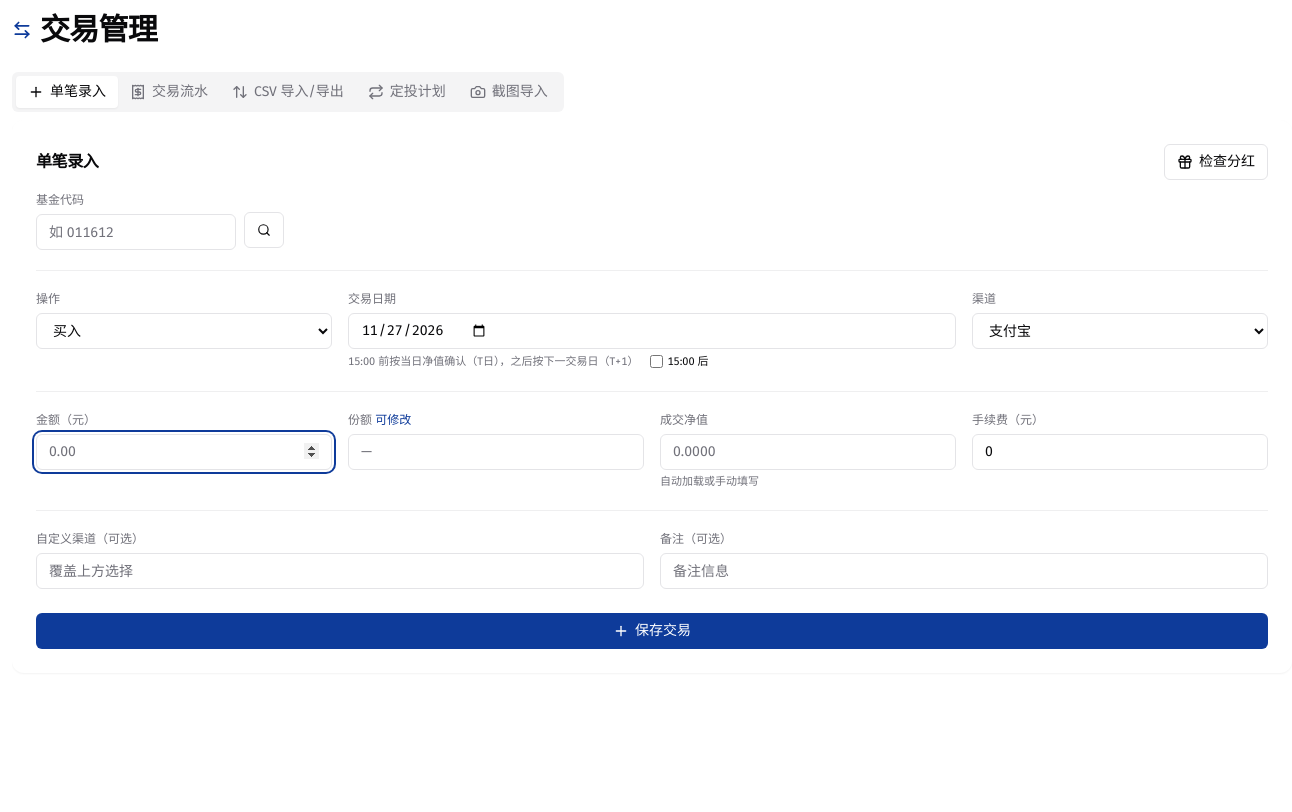
Test: 再投资金额 / 分红再投资手续费 › 再投资提交金额等于只读框显示的自动金额，残留买入金额不生效
Later steps or results of the test are not shown.
In the field with placeholder "如 011612": (136, 232) [36,214,236,250], type "000001"
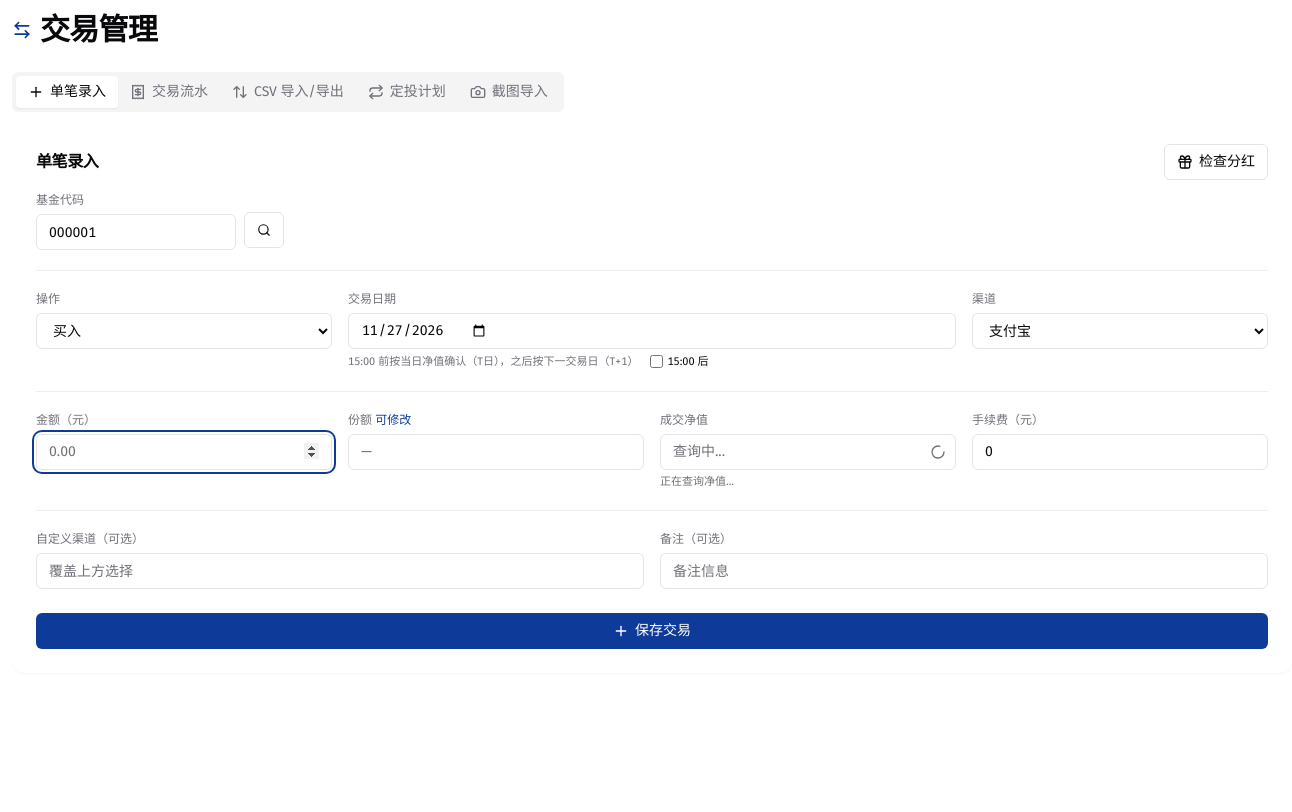
// 先在买入模式填入金额（切换 action 后残留于 amount state）
In the number field with placeholder "0.00": (184, 452) [36,434,332,470], type "1000"
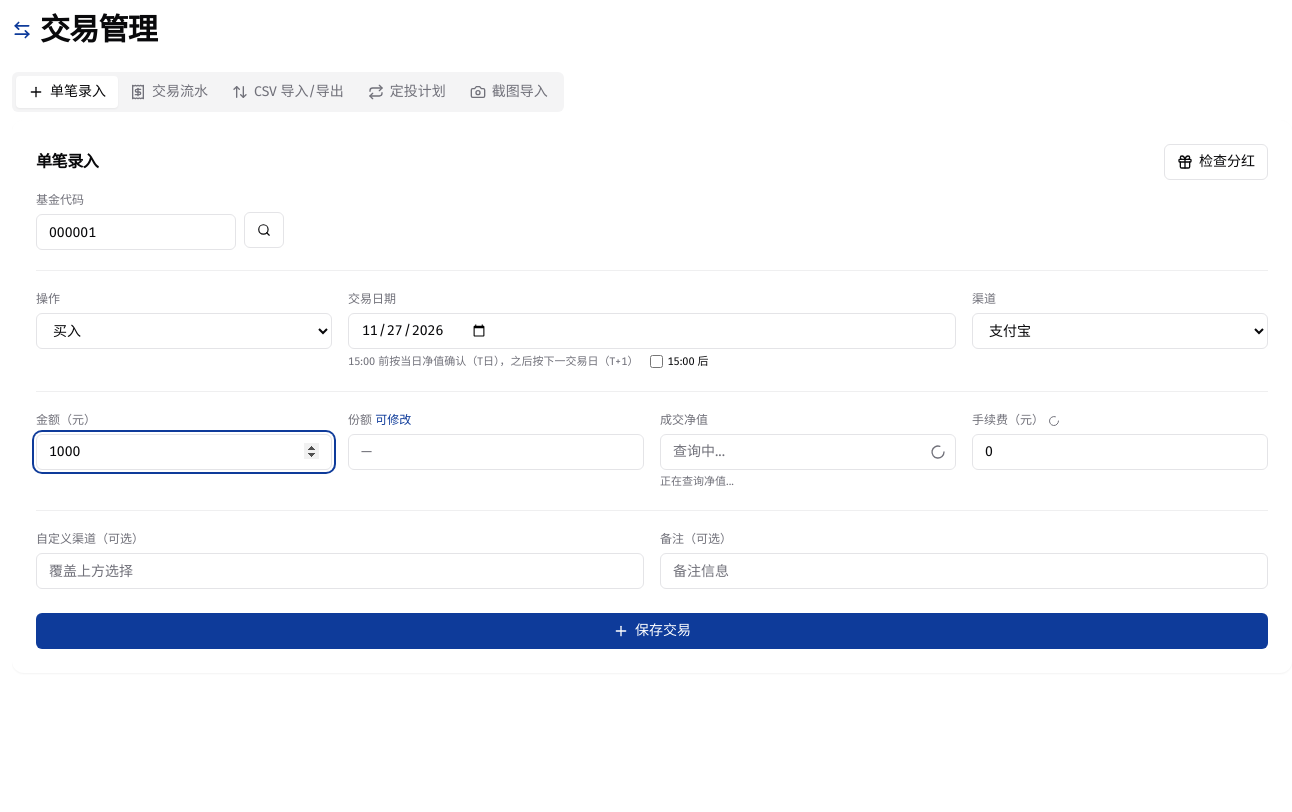
Select "再投资" in the dropdown below "操作": (184, 331) [36,313,332,349]
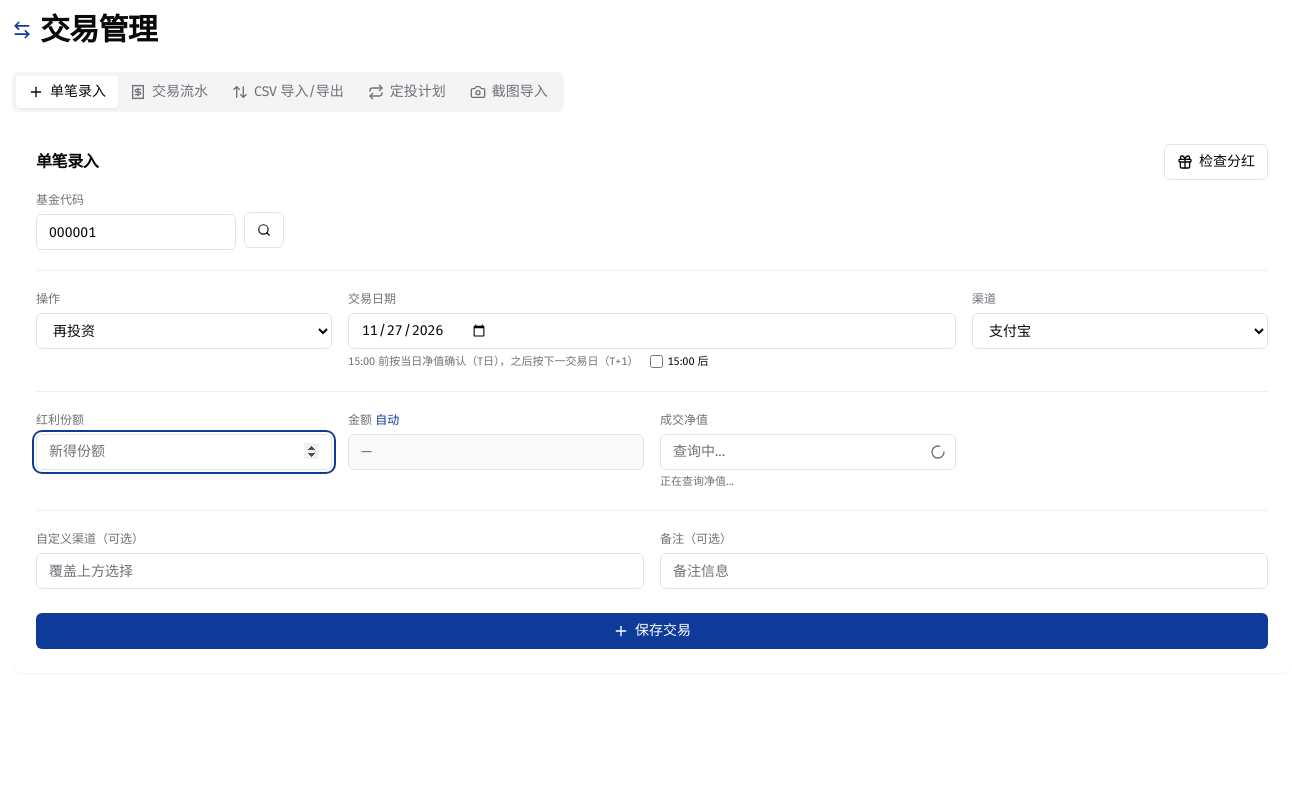
In the number field with placeholder "新得份额": (184, 452) [36,434,332,470], type "100"
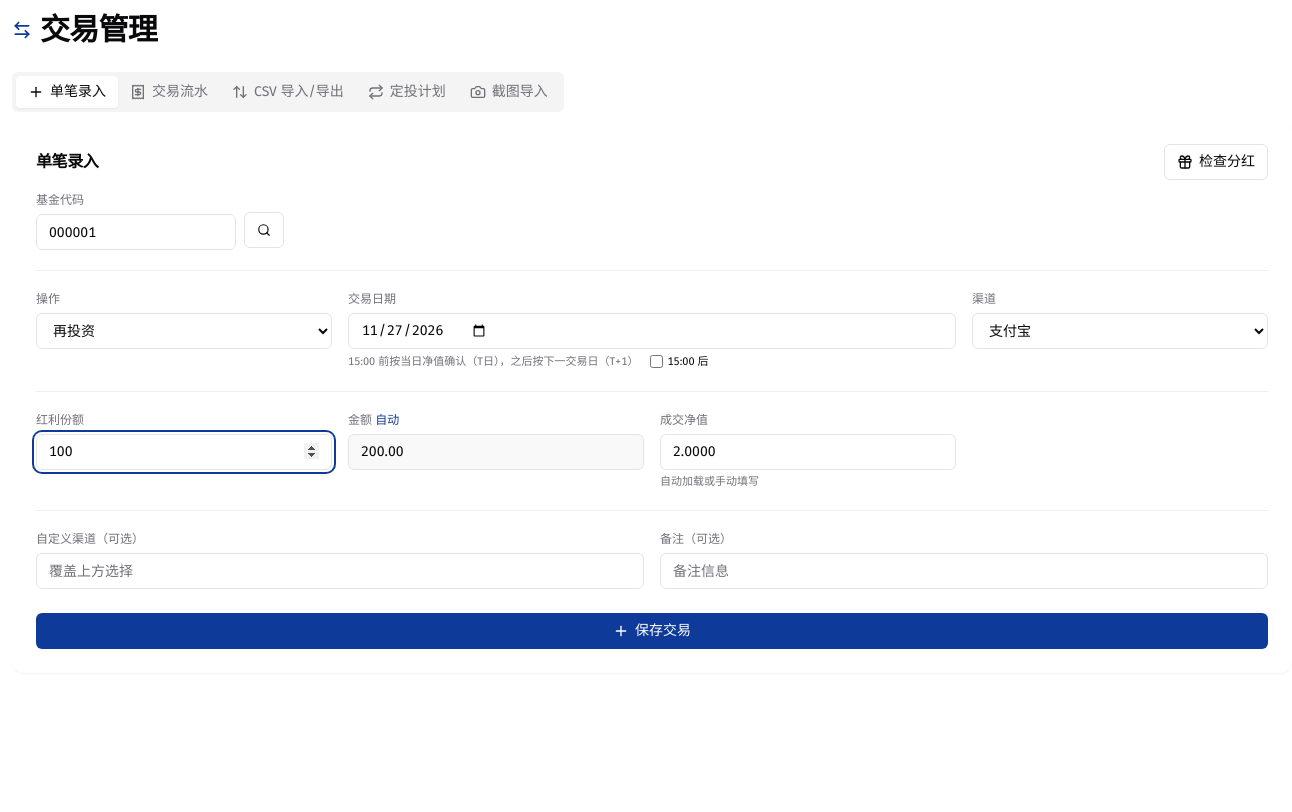
Expected: the number field below "成交净值" holds "2.0000", [660,434,956,470]
Expected: the number field below "金额" holds "200.00", [348,434,644,470]
